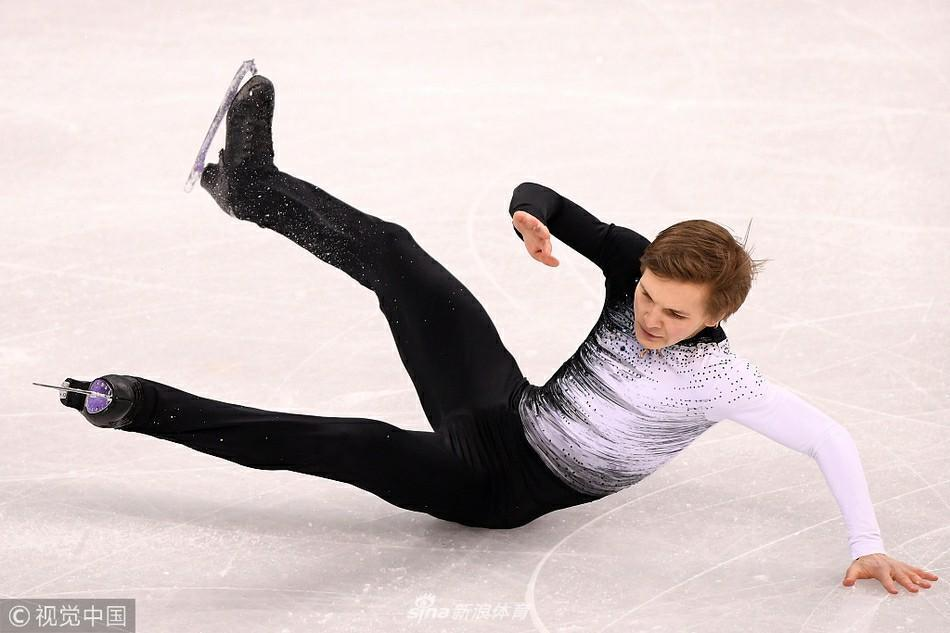Fall-Detected: (0, 91, 950, 593)
